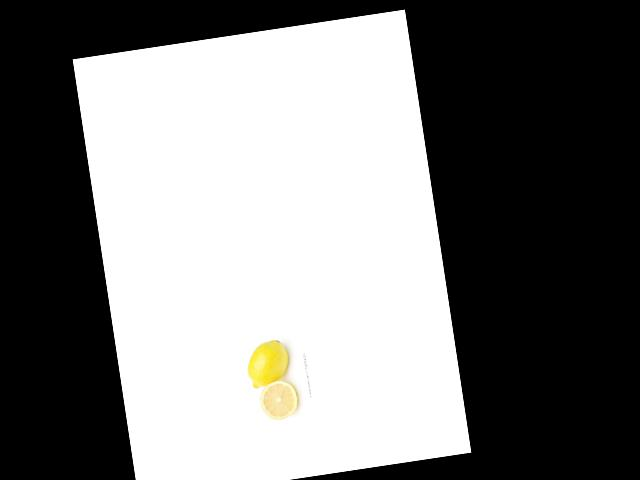lemon: (243, 334, 293, 389)
